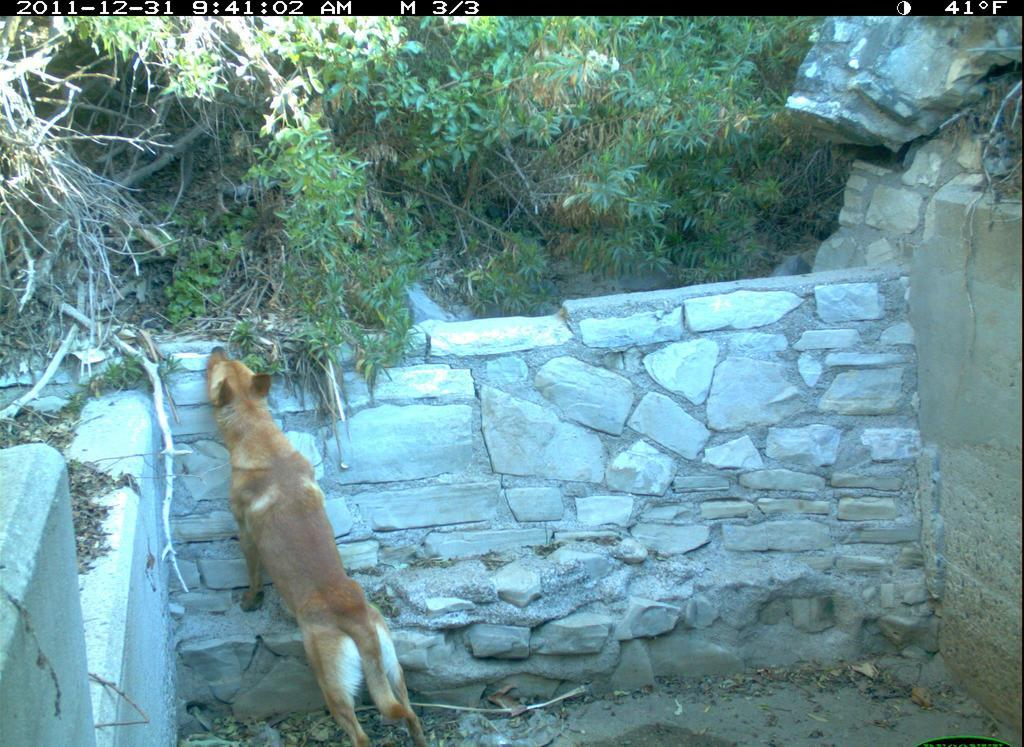dog: (185, 329, 463, 740)
